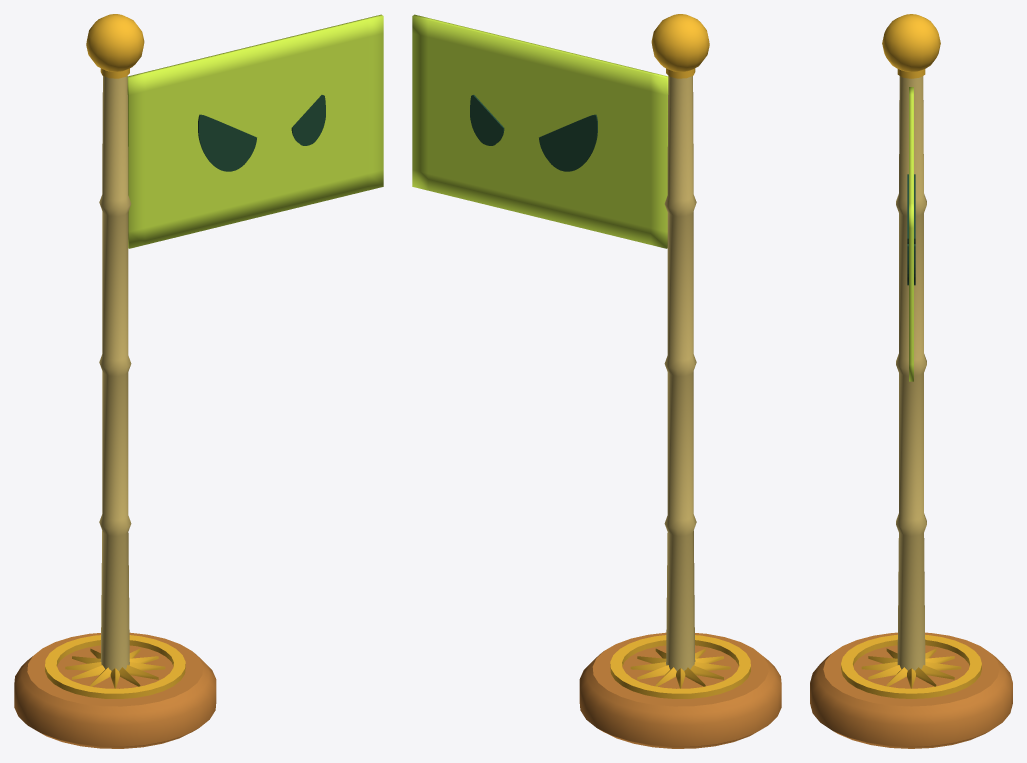
File: checkpoint.glb
3 renders of one model, left to right at view 1: azimuth 30°, elevation 25°; view 2: azimuth 150°, elevation 25°; view 3: azimuth 270°, elevation 25°, orthographic.
Visible parts, largest first — view 1: Flag, checkpoint; view 2: Flag, checkpoint; view 3: checkpoint, Flag.
Boxes of the visible parts, left/top/right/bottom form: Flag: left=127, top=14, right=383, bottom=248; checkpoint: left=14, top=14, right=216, bottom=748; Flag: left=412, top=14, right=668, bottom=248; checkpoint: left=579, top=14, right=781, bottom=748; checkpoint: left=810, top=14, right=1012, bottom=748; Flag: left=907, top=87, right=915, bottom=381.
Size of the model in its own units: 1.39 by 2.6 by 0.69.
